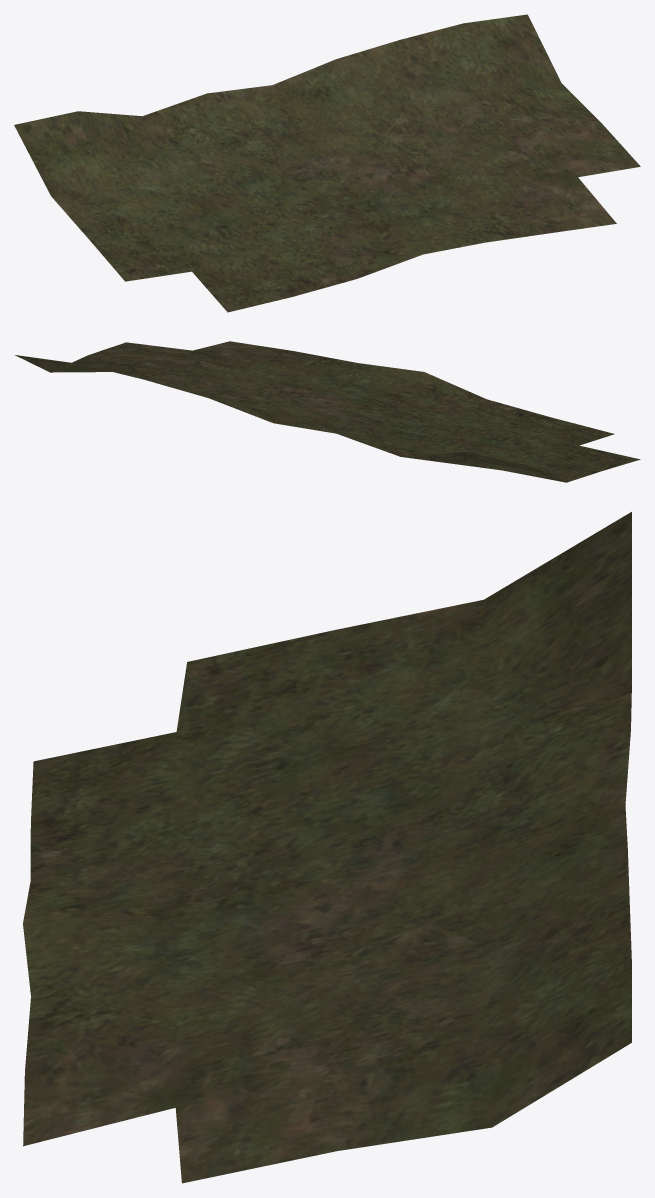
The model's file is blend_weeds14.fbx.
3 views of the same model, one above another, from view 1: azimuth 30°, elevation 25°; view 2: azimuth 150°, elevation 25°; view 3: azimuth 270°, elevation 25° (orthographic). The views are drawn at different scales.
Visible parts, largest first — view 1: New_terrain/brushblend_shadow; view 2: New_terrain/brushblend_shadow; view 3: New_terrain/brushblend_shadow.
Boxes of the visible parts, bbox=[...] form: New_terrain/brushblend_shadow: bbox=[14, 14, 640, 312]; New_terrain/brushblend_shadow: bbox=[15, 341, 640, 482]; New_terrain/brushblend_shadow: bbox=[23, 512, 631, 1183].
Size of the model in its own units: 20.03 by 3.62 by 10.27.
